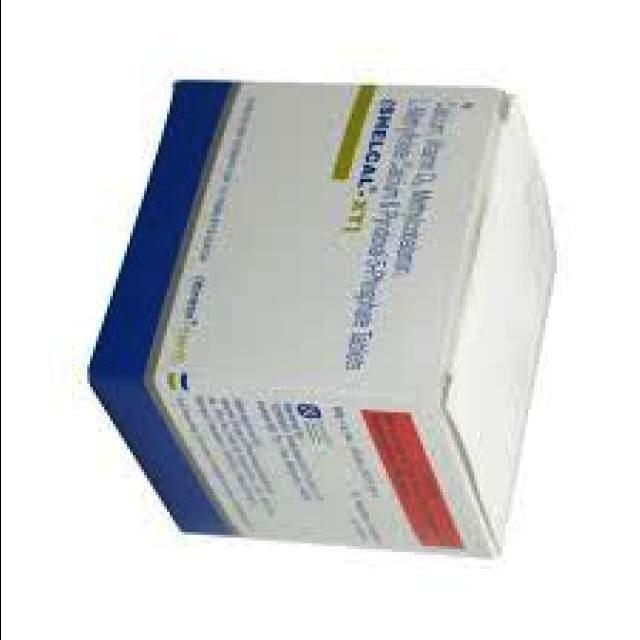authentic: (79, 67, 568, 585)
